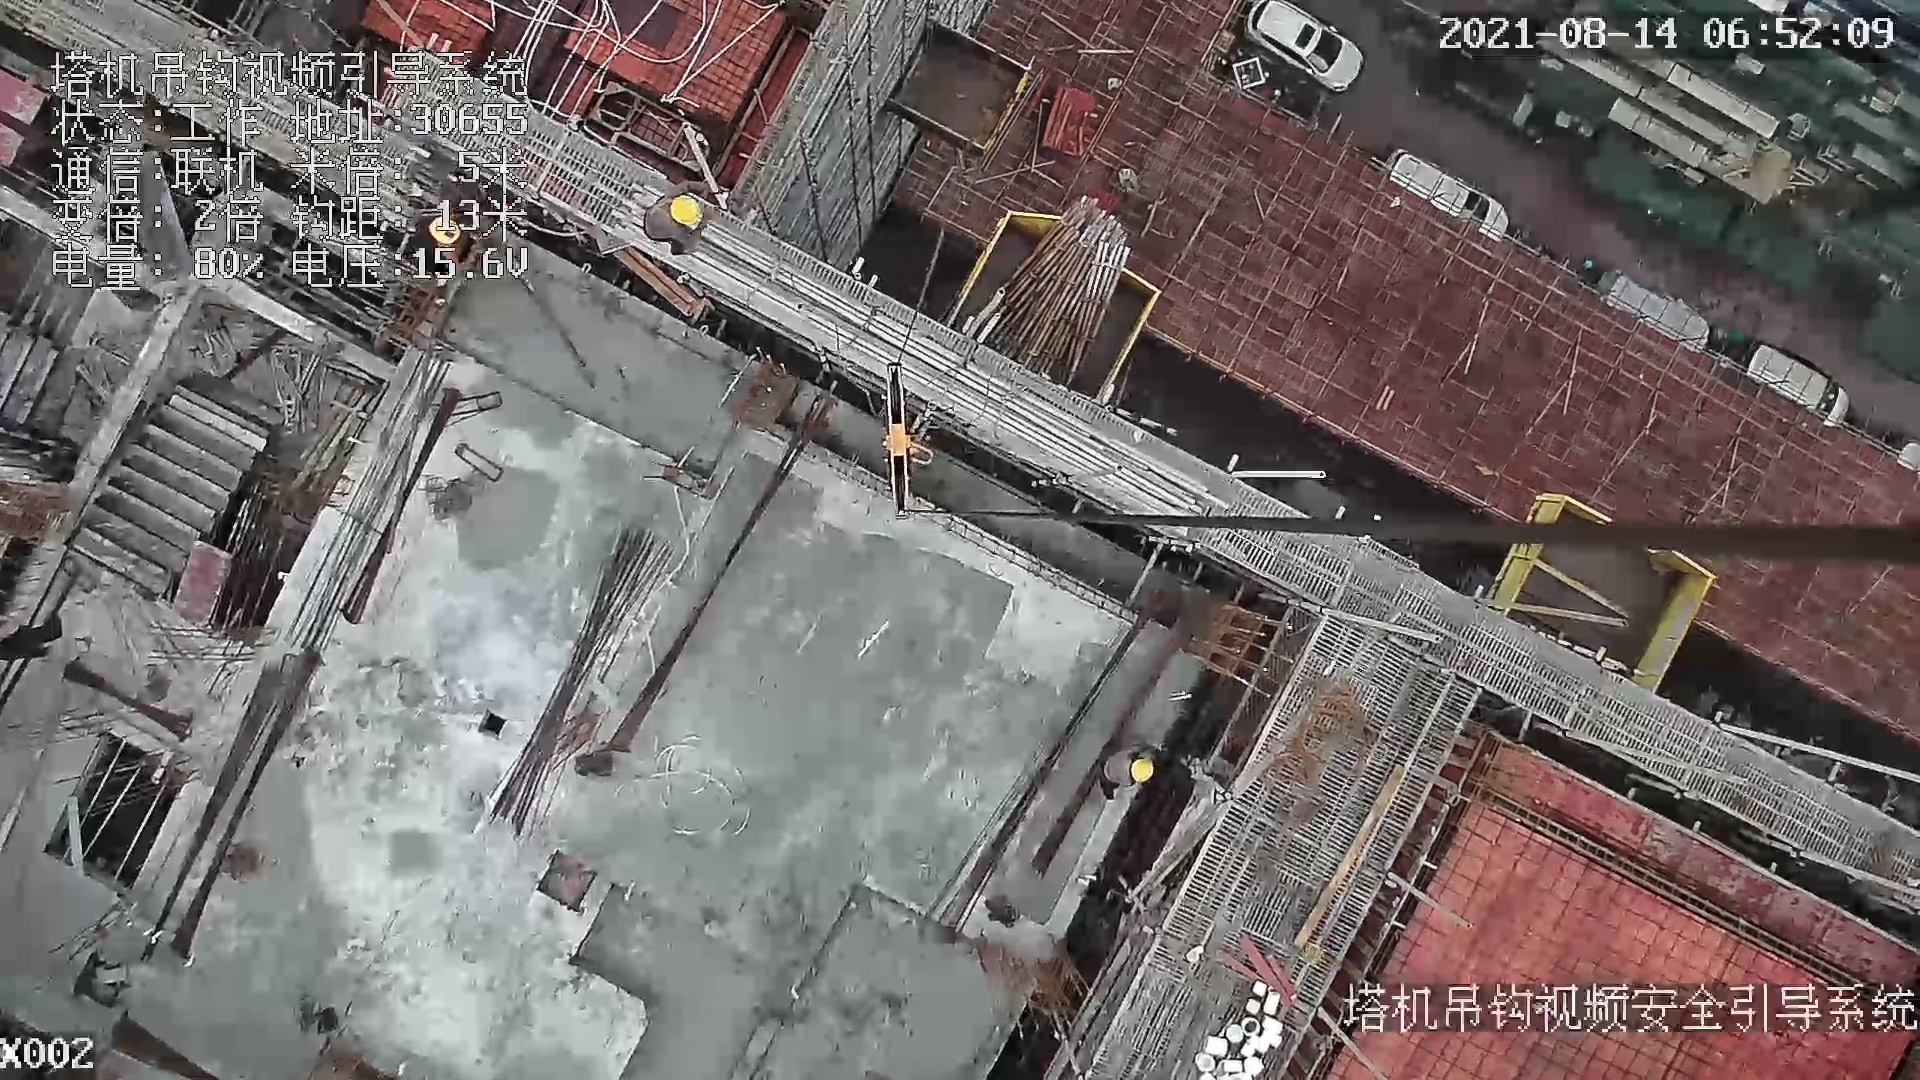helmet: (670, 195, 703, 226), (1130, 758, 1153, 782)
hook: (879, 359, 942, 532)
person: (635, 180, 731, 259), (1097, 741, 1173, 801)
rebar: (611, 184, 1224, 534), (488, 533, 674, 840)
scaffold: (963, 196, 1129, 389)
